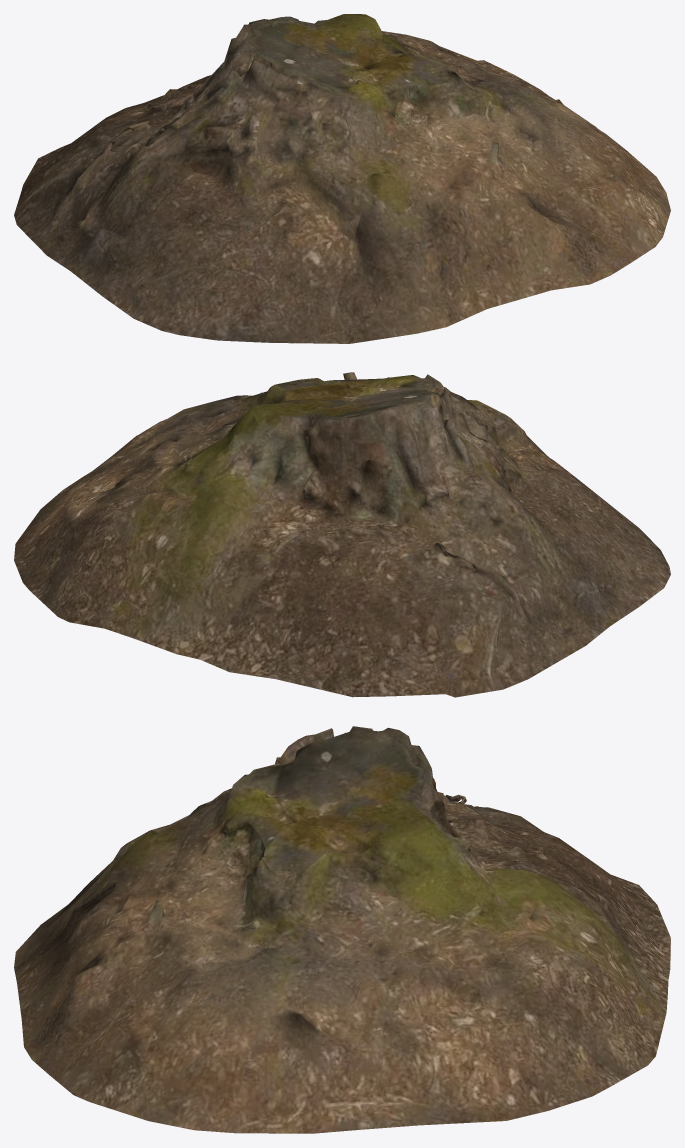
The model's file is tree_stump_02.glb.
3 renders of one model, top to bottom at view 1: azimuth 30°, elevation 25°; view 2: azimuth 150°, elevation 25°; view 3: azimuth 270°, elevation 25°, orthographic. The views are drawn at different scales.
Parts seen in each view (by area): view 1: tree_stump_02; view 2: tree_stump_02; view 3: tree_stump_02.
Part boxes in pixels (<box>): tree_stump_02: <box>14,14,670,343</box>; tree_stump_02: <box>14,372,670,697</box>; tree_stump_02: <box>14,726,670,1133</box>.
Size of the model in its own units: 1.52 by 0.5195 by 1.39.
Materials: 1 (1 with a texture image).
